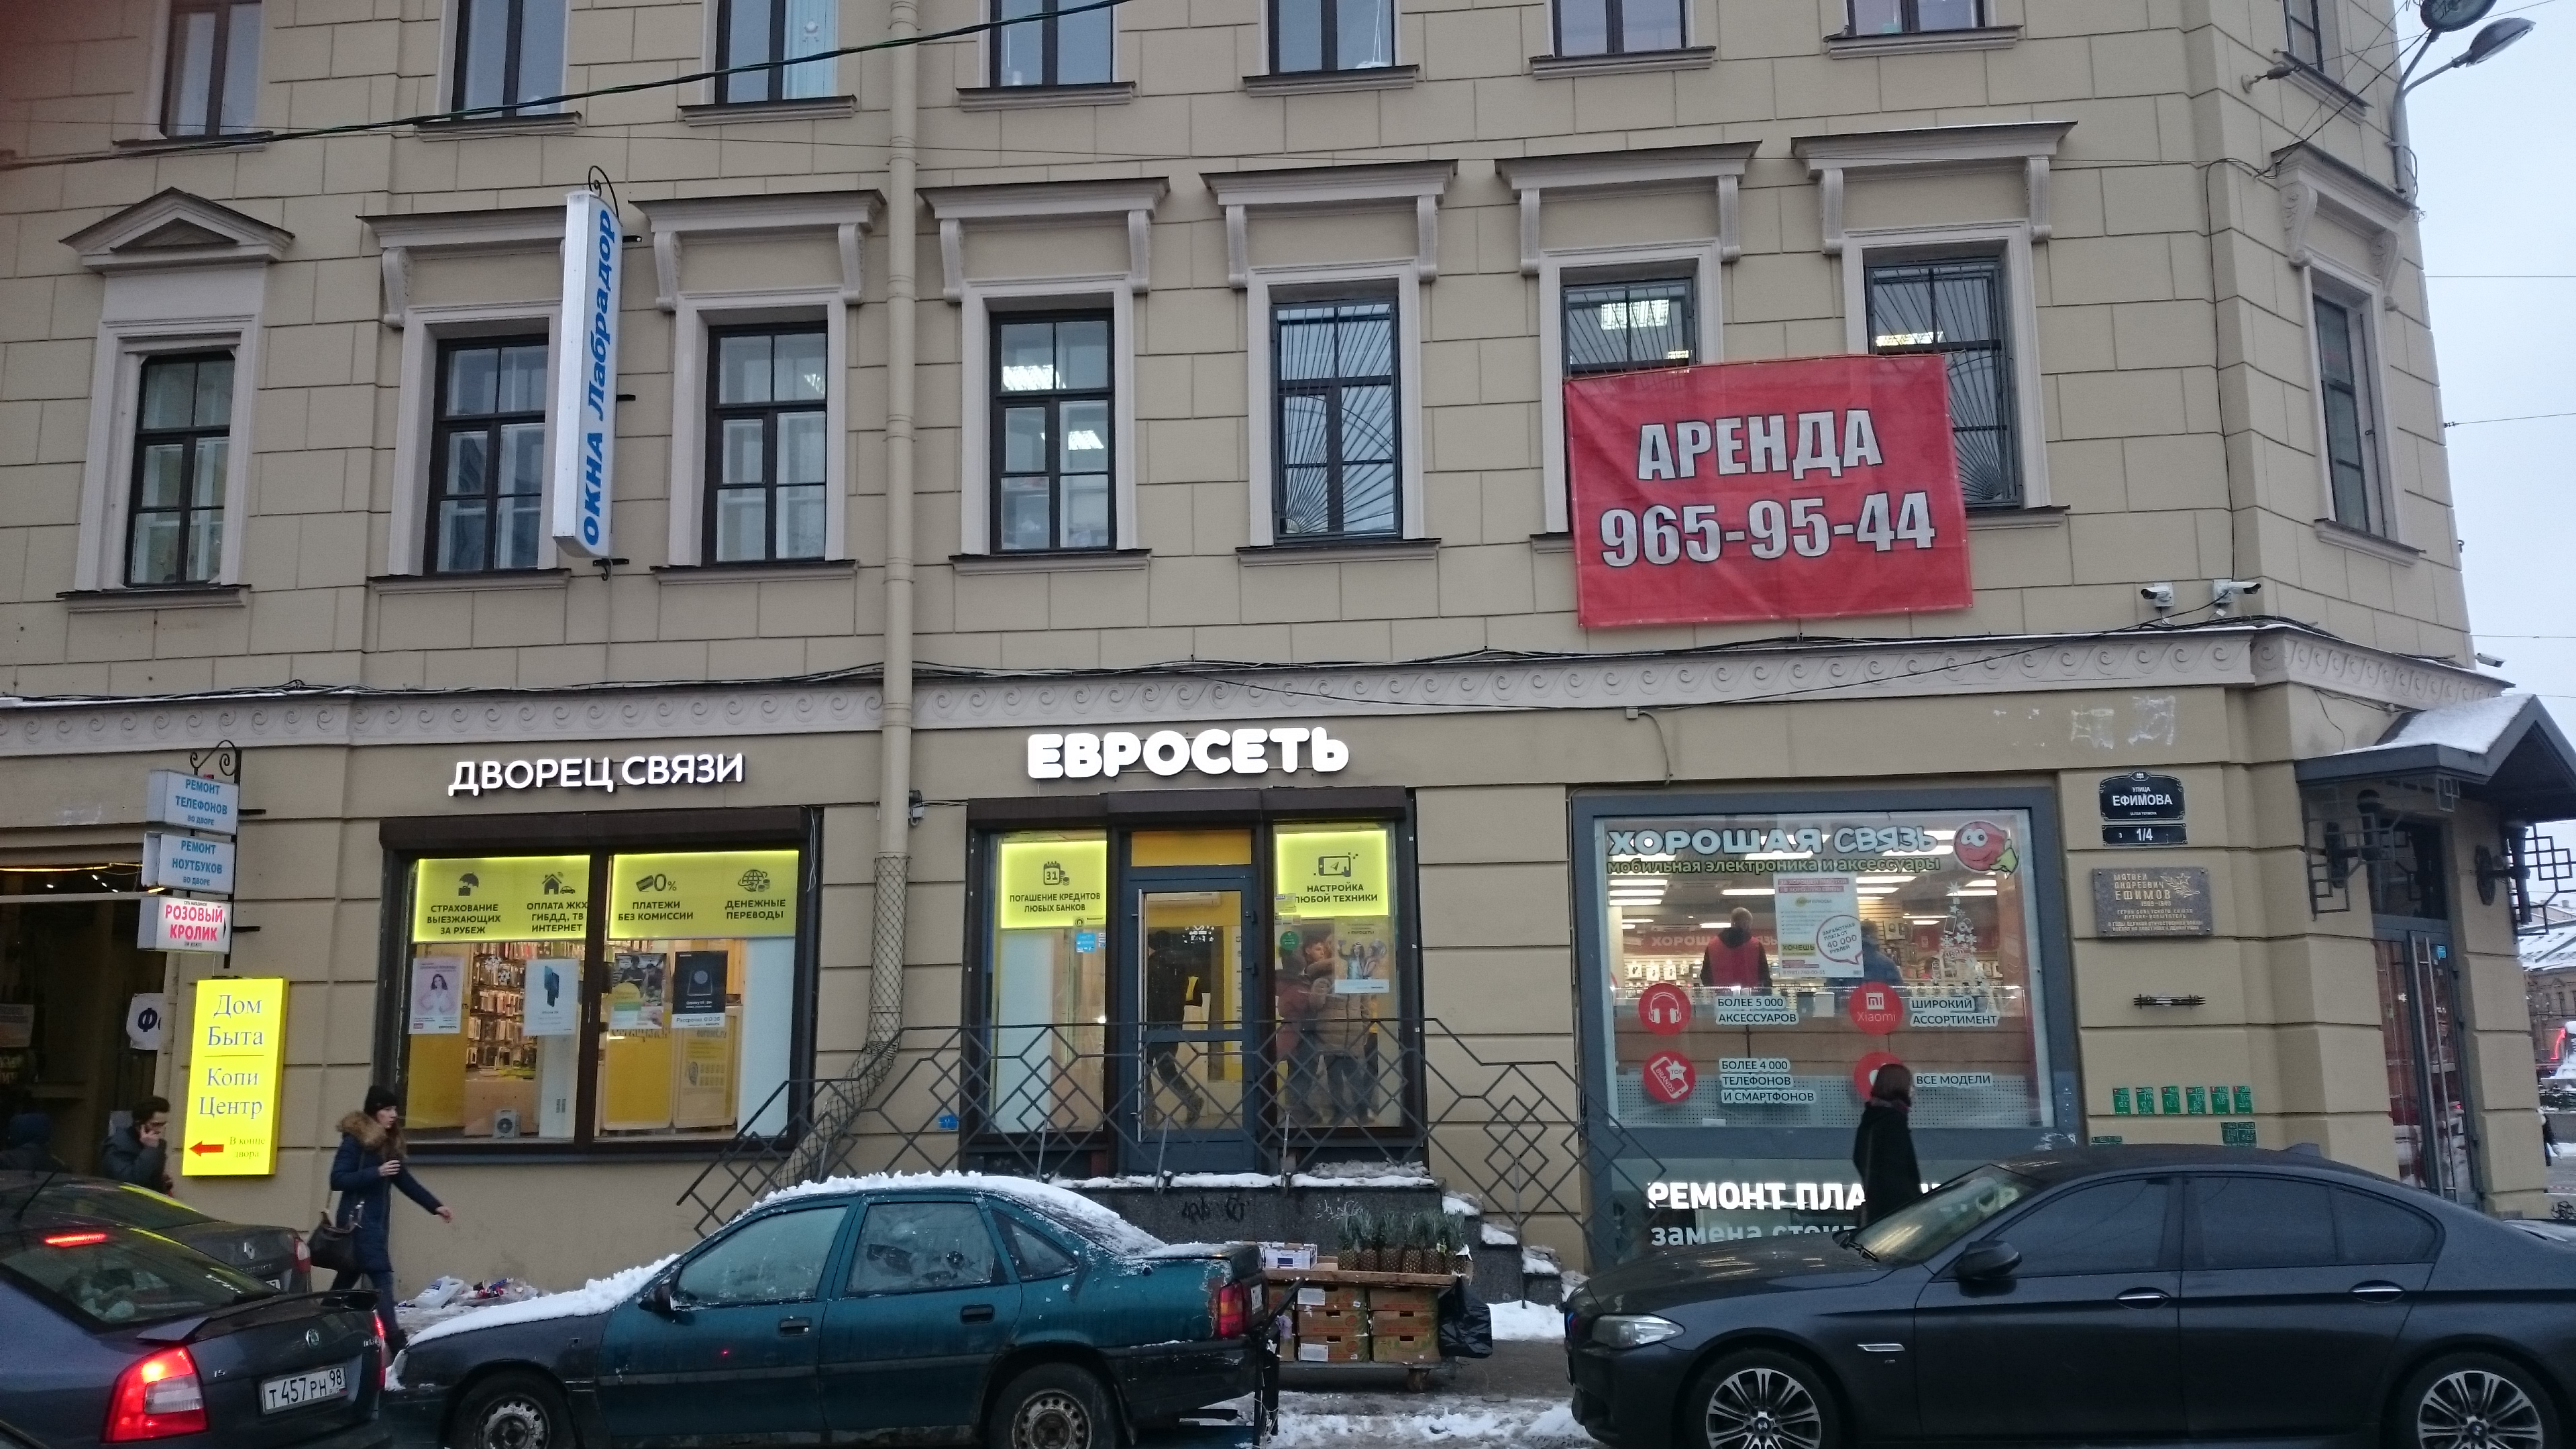cantilever: (552, 161, 640, 589), (140, 747, 260, 966)
signboard: (1568, 356, 1976, 616), (1028, 725, 1359, 777), (444, 755, 752, 793)
win_ad: (1606, 823, 2026, 1122), (614, 858, 798, 932), (416, 858, 587, 932), (1276, 832, 1389, 920), (1003, 847, 1106, 925)
window: (1605, 809, 2033, 1123), (977, 828, 1392, 1146), (393, 839, 805, 1138), (421, 324, 548, 584), (987, 306, 1111, 561), (1279, 294, 1394, 547), (115, 341, 235, 580), (711, 329, 823, 561)
